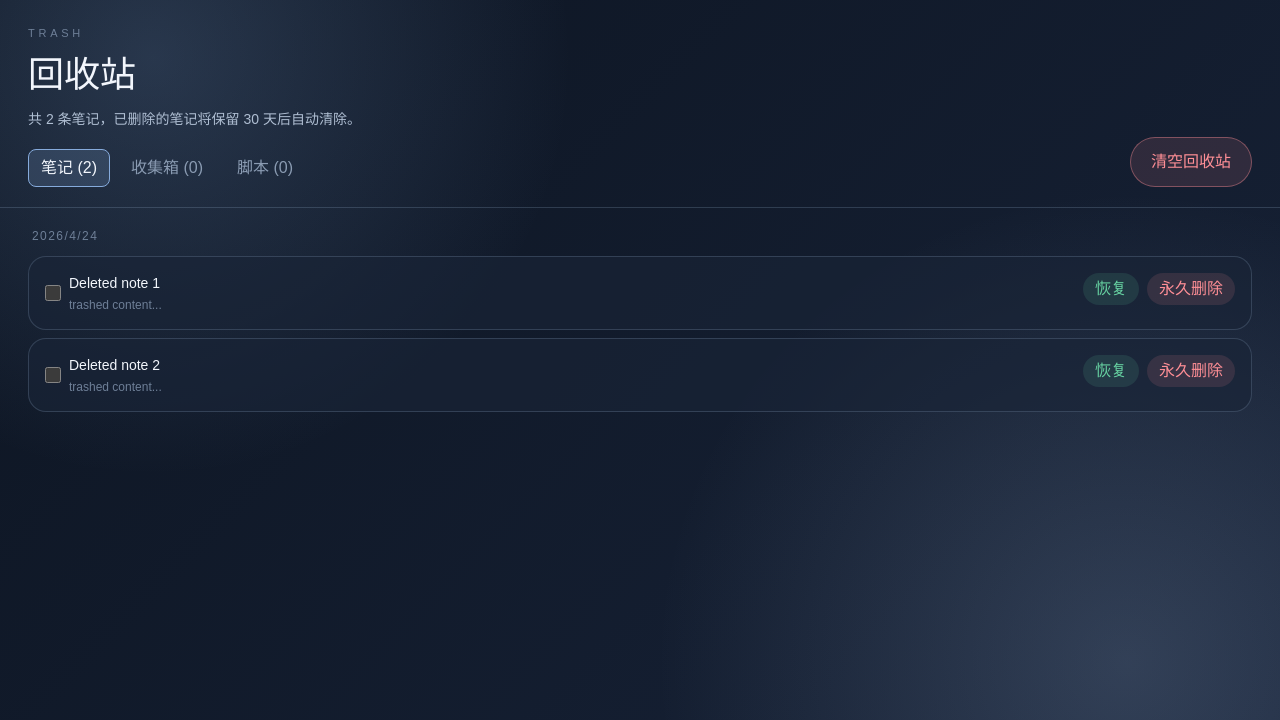
Test: TrashPanel › 恢复单条笔记后将其从回收站列表移除
Expected: the text "Deleted note 1" is shown, [69,276,160,292]
Click the button "恢复" in the row of "Deleted note 1".
click(1111, 290)  # box [1083,274,1139,306]
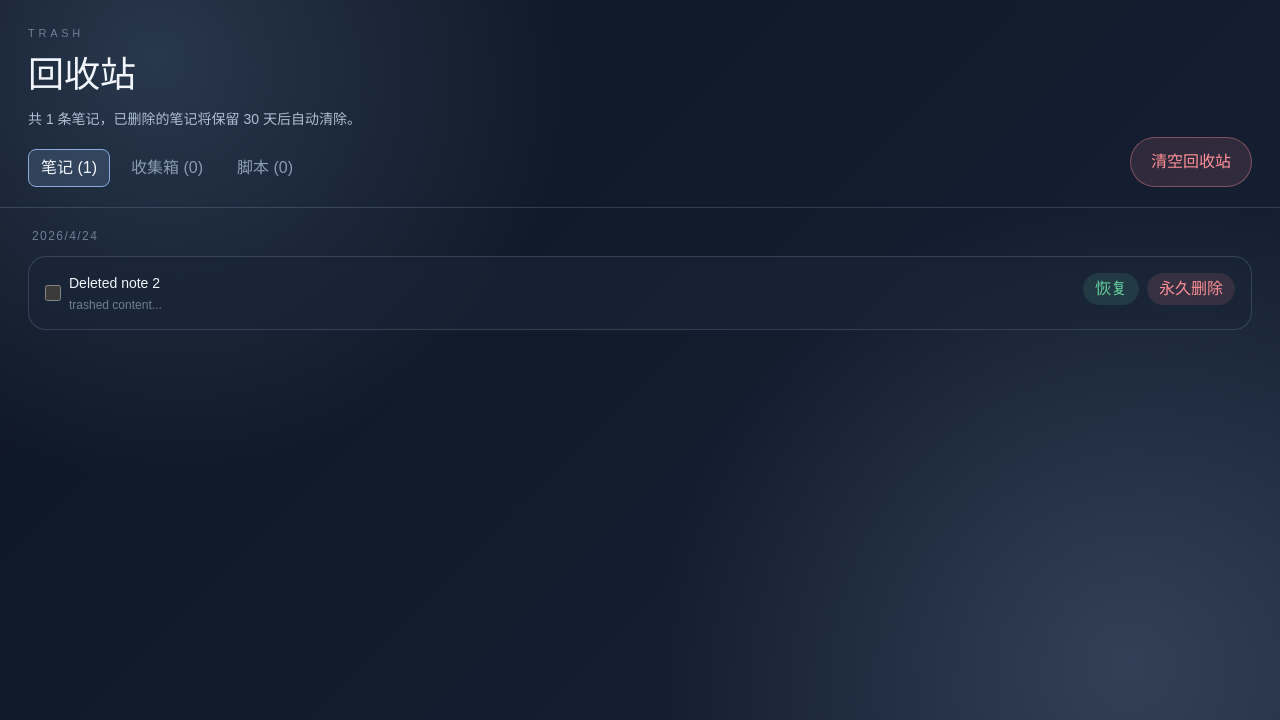
Now the text "Deleted note 1" is gone
